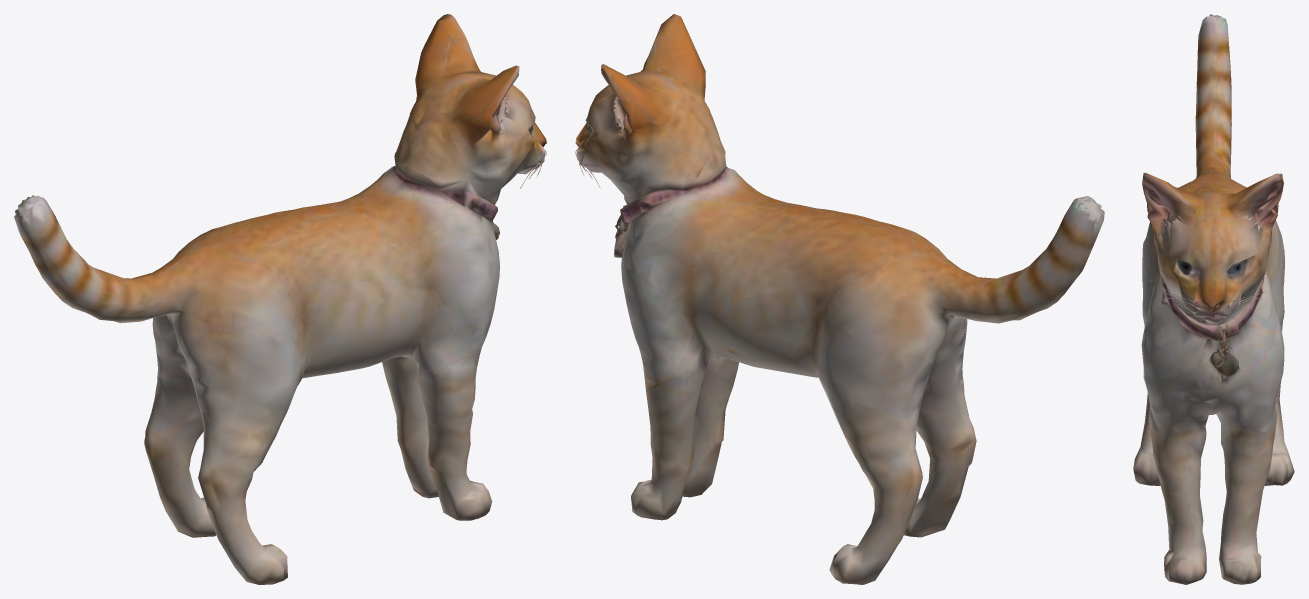
File: PEEPEECAT-lo.glb
3 renders of one model, left to right at view 1: azimuth 30°, elevation 25°; view 2: azimuth 150°, elevation 25°; view 3: azimuth 270°, elevation 25°, orthographic. The views are drawn at different scales.
Visible parts, largest first — view 1: material; view 2: material; view 3: material.
Boxes of the visible parts, bbox=[...] form: material: bbox=[14, 14, 546, 584]; material: bbox=[575, 14, 1104, 584]; material: bbox=[1133, 14, 1294, 584].
Size of the model in its own units: 1.21 by 0.9977 by 0.3468.
1 material, 1 textured.
